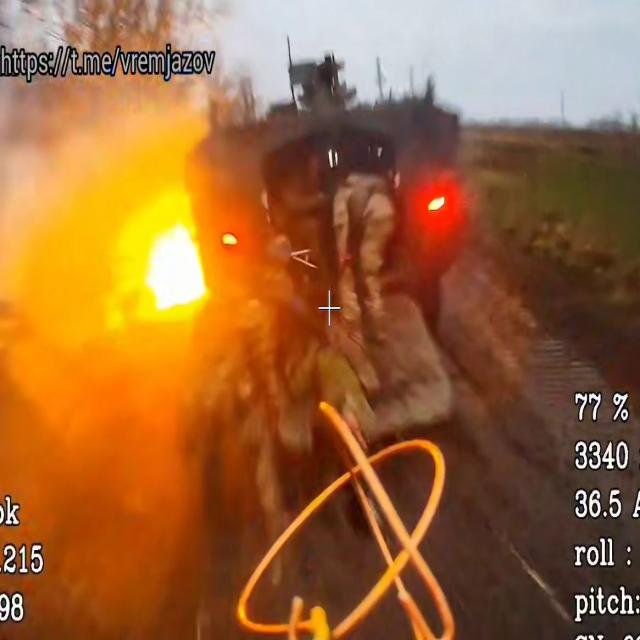infantry: (215, 217, 295, 493), (313, 317, 377, 490), (329, 170, 393, 269)
vehicle: (153, 38, 517, 389)
